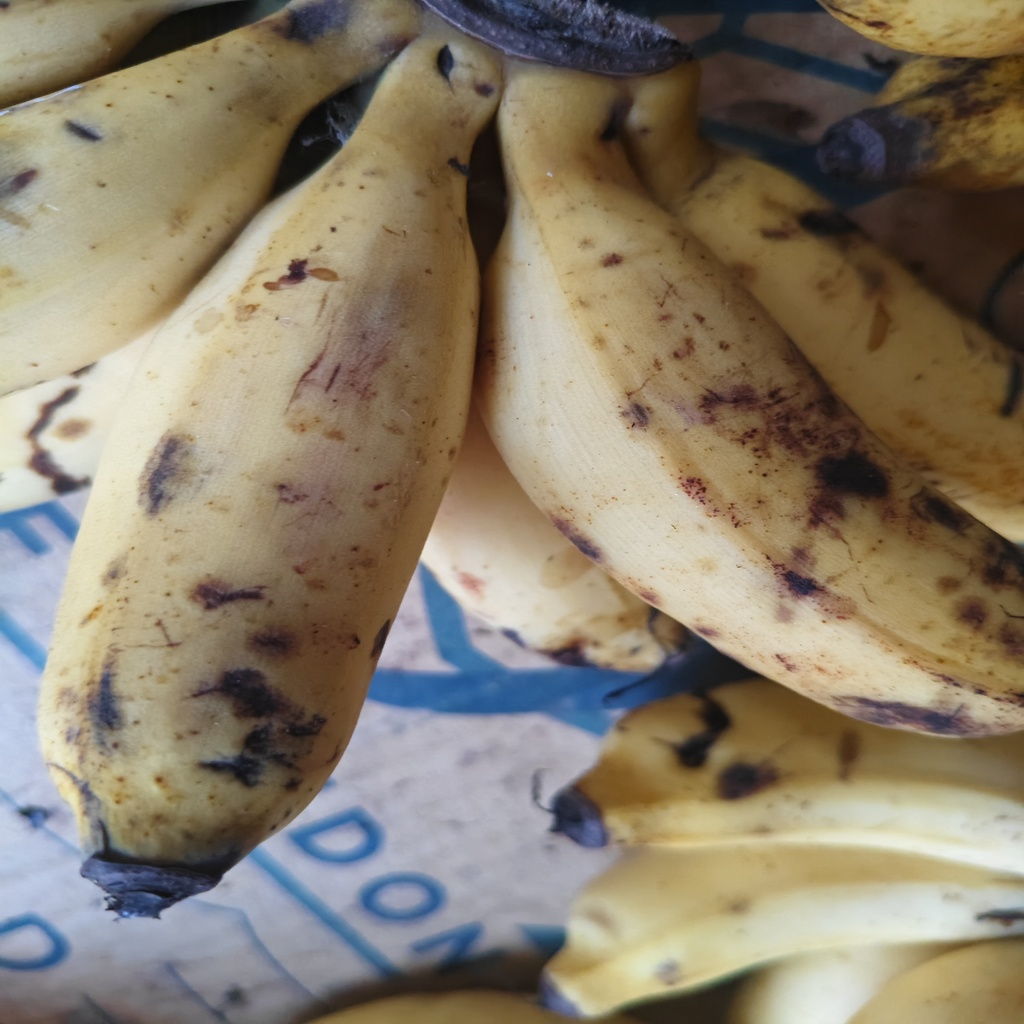unhealthy: (35, 201, 478, 902), (487, 185, 1024, 739)
